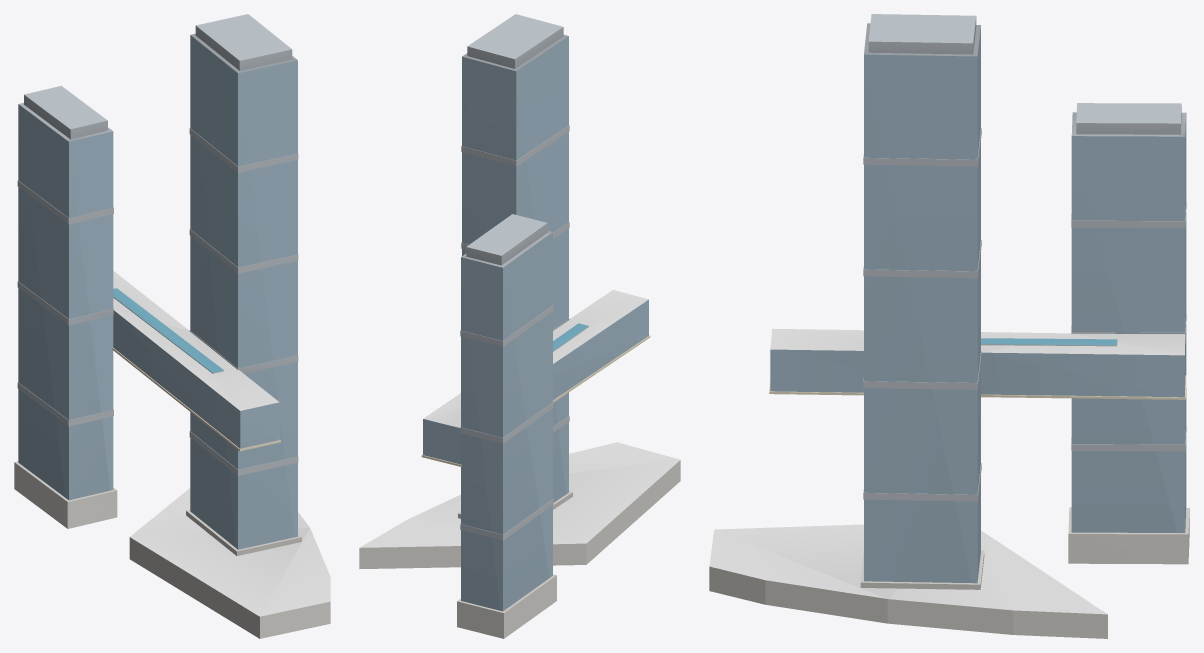
File: one_zaabeel_lod1.glb
3 renders of one model, left to right at view 1: azimuth 30°, elevation 25°; view 2: azimuth 150°, elevation 25°; view 3: azimuth 270°, elevation 25°, orthographic. The views are drawn at different scales.
Parts seen in each view (by area): view 1: one_zaabeel_lod1; view 2: one_zaabeel_lod1; view 3: one_zaabeel_lod1.
Part boxes in pixels (x1=…): one_zaabeel_lod1: x1=14, y1=14, x2=330, y2=638; one_zaabeel_lod1: x1=359, y1=14, x2=680, y2=638; one_zaabeel_lod1: x1=709, y1=14, x2=1189, y2=638.
Bounding box in the file's own units: 117 × 305 × 234.
